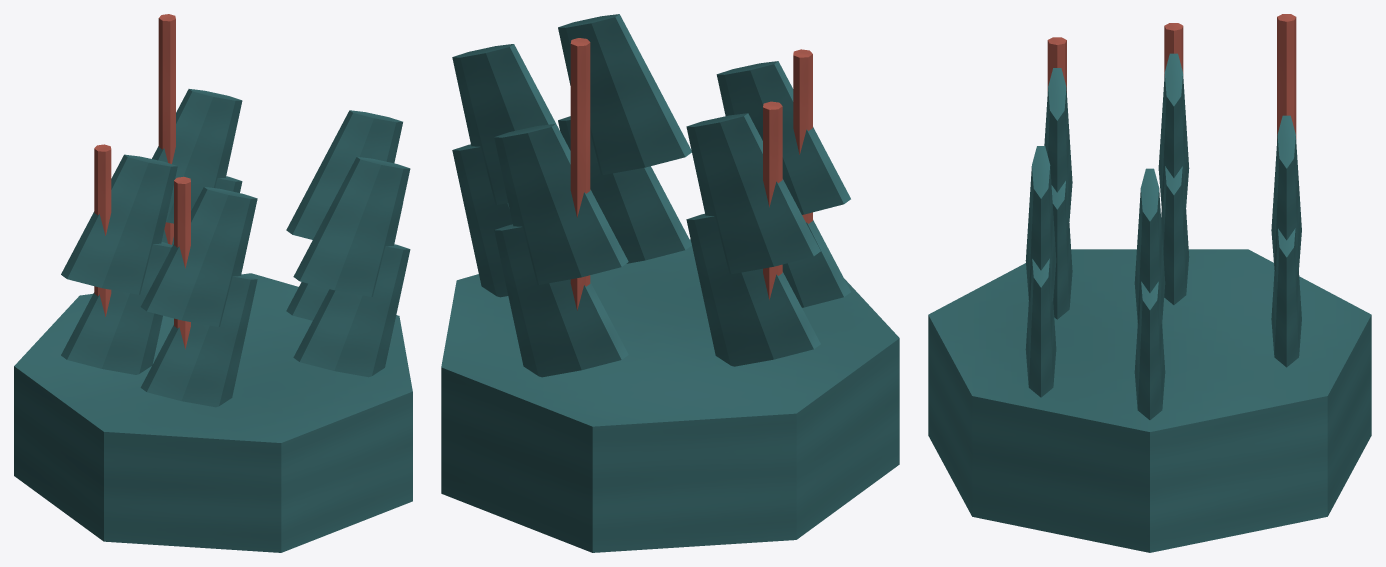
Rendered from atlas100-s031-a12.lod1.glb.
The picture shows the model from 3 angles, left to right: view 1: azimuth 30°, elevation 25°; view 2: azimuth 150°, elevation 25°; view 3: azimuth 270°, elevation 25°; orthographic projection. The views are drawn at different scales.
Visible parts, largest first — view 1: atlas100-s031-a12:part-000, atlas100-s031-a12:part-012, atlas100-s031-a12:part-015, atlas100-s031-a12:part-006, atlas100-s031-a12:part-011, atlas100-s031-a12:part-005, atlas100-s031-a12:part-014, atlas100-s031-a12:part-009, atlas100-s031-a12:part-003, atlas100-s031-a12:part-007, atlas100-s031-a12:part-013, atlas100-s031-a12:part-004 (+1 smaller); view 2: atlas100-s031-a12:part-000, atlas100-s031-a12:part-009, atlas100-s031-a12:part-015, atlas100-s031-a12:part-012, atlas100-s031-a12:part-014, atlas100-s031-a12:part-008, atlas100-s031-a12:part-003, atlas100-s031-a12:part-006, atlas100-s031-a12:part-011, atlas100-s031-a12:part-002, atlas100-s031-a12:part-007, atlas100-s031-a12:part-005 (+2 smaller); view 3: atlas100-s031-a12:part-000, atlas100-s031-a12:part-002, atlas100-s031-a12:part-008, atlas100-s031-a12:part-011, atlas100-s031-a12:part-003, atlas100-s031-a12:part-009, atlas100-s031-a12:part-015, atlas100-s031-a12:part-012, atlas100-s031-a12:part-014, atlas100-s031-a12:part-006, atlas100-s031-a12:part-007, atlas100-s031-a12:part-005 (+2 smaller).
Boxes of the visible parts, x1,y1,x2,y2 form: atlas100-s031-a12:part-000: [14, 273, 412, 552]; atlas100-s031-a12:part-012: [293, 157, 410, 296]; atlas100-s031-a12:part-015: [61, 154, 177, 294]; atlas100-s031-a12:part-006: [140, 187, 257, 326]; atlas100-s031-a12:part-011: [293, 244, 410, 377]; atlas100-s031-a12:part-005: [140, 274, 257, 407]; atlas100-s031-a12:part-014: [61, 242, 172, 374]; atlas100-s031-a12:part-009: [152, 89, 242, 223]; atlas100-s031-a12:part-003: [286, 110, 402, 239]; atlas100-s031-a12:part-007: [158, 14, 175, 244]; atlas100-s031-a12:part-013: [94, 144, 111, 316]; atlas100-s031-a12:part-004: [174, 176, 190, 349]; atlas100-s031-a12:part-000: [441, 239, 899, 552]; atlas100-s031-a12:part-009: [494, 124, 628, 284]; atlas100-s031-a12:part-015: [686, 113, 820, 274]; atlas100-s031-a12:part-012: [558, 14, 691, 175]; atlas100-s031-a12:part-014: [686, 213, 820, 366]; atlas100-s031-a12:part-008: [494, 224, 628, 377]; atlas100-s031-a12:part-003: [452, 44, 570, 204]; atlas100-s031-a12:part-006: [716, 61, 850, 214]; atlas100-s031-a12:part-011: [558, 116, 691, 263]; atlas100-s031-a12:part-002: [452, 144, 512, 297]; atlas100-s031-a12:part-007: [570, 38, 590, 310]; atlas100-s031-a12:part-005: [782, 220, 850, 307]; atlas100-s031-a12:part-000: [928, 249, 1371, 552]; atlas100-s031-a12:part-002: [1134, 281, 1165, 419]; atlas100-s031-a12:part-008: [1271, 228, 1301, 367]; atlas100-s031-a12:part-011: [1025, 258, 1056, 397]; atlas100-s031-a12:part-003: [1134, 168, 1165, 324]; atlas100-s031-a12:part-009: [1271, 115, 1301, 271]; atlas100-s031-a12:part-015: [1158, 53, 1189, 209]; atlas100-s031-a12:part-012: [1025, 146, 1056, 301]; atlas100-s031-a12:part-014: [1161, 166, 1189, 304]; atlas100-s031-a12:part-006: [1044, 68, 1072, 223]; atlas100-s031-a12:part-007: [1277, 14, 1296, 140]; atlas100-s031-a12:part-005: [1051, 181, 1072, 319].
Bounding box in the file's own units: 1.11 × 1.25 × 1.13.
2 materials, 2 textured.
